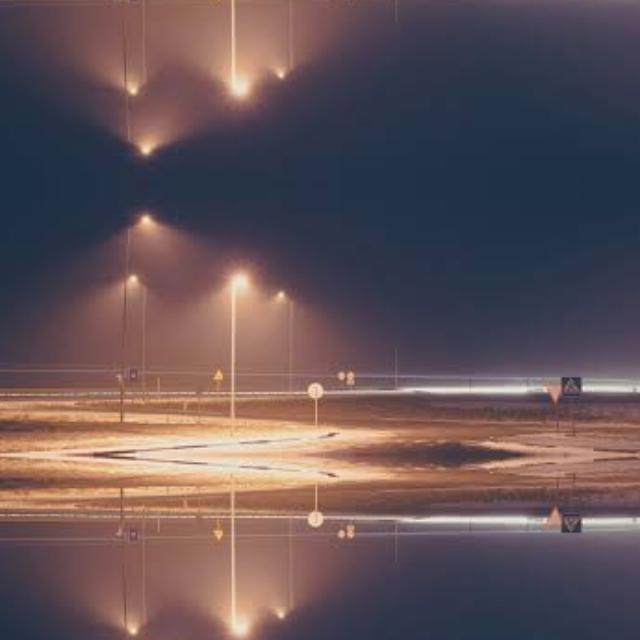person: (214, 276, 256, 426), (214, 484, 256, 634), (214, 0, 256, 91)
